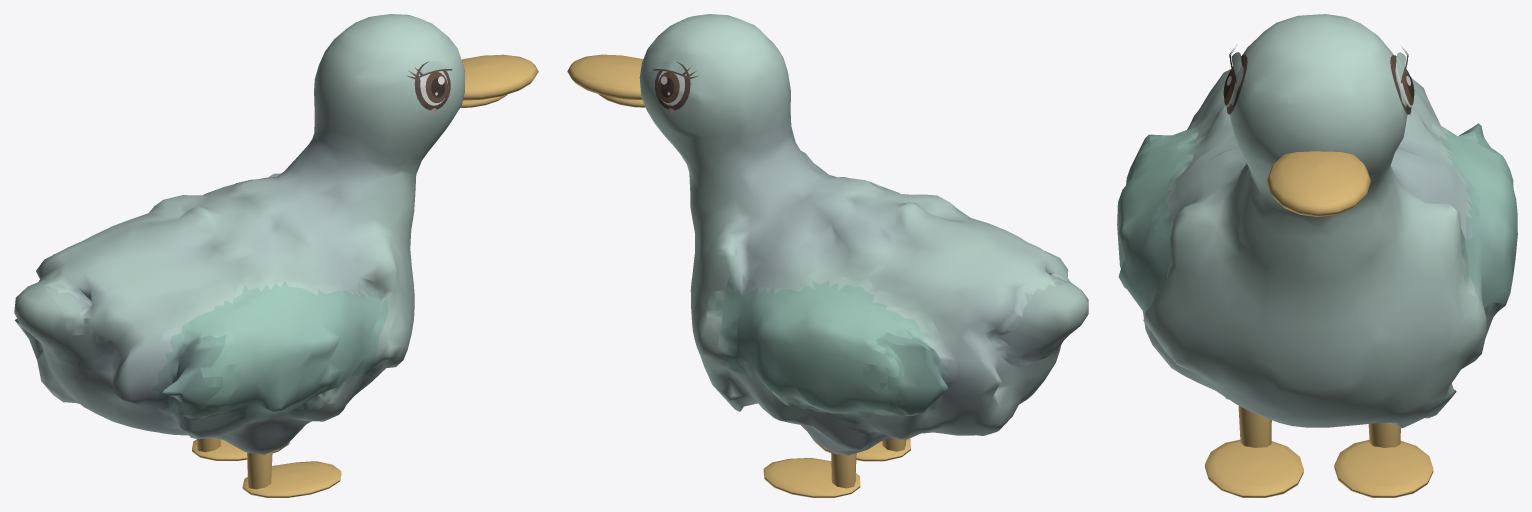
File: mint_duck.glb
The picture shows the model from 3 angles, left to right: view 1: azimuth 30°, elevation 25°; view 2: azimuth 150°, elevation 25°; view 3: azimuth 270°, elevation 25°; orthographic projection. The views are drawn at different scales.
Parts seen in each view (by area): view 1: mint_duck; view 2: mint_duck; view 3: mint_duck.
Part boxes in pixels (x1,y1,x2,y2): mint_duck: (14,14,538,497); mint_duck: (567,14,1088,497); mint_duck: (1117,14,1517,497).
Size of the model in its own units: 0.5596 by 0.4329 by 0.2967.
